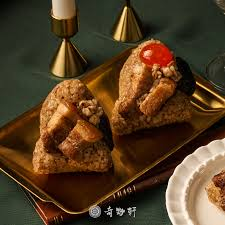zongzi: (112, 39, 194, 134), (33, 80, 112, 172)
